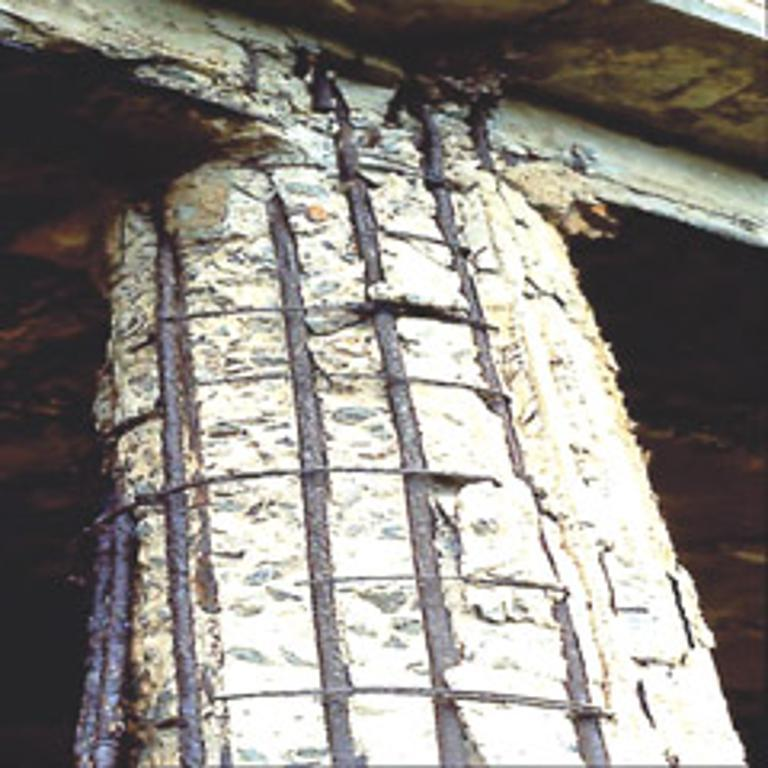exposed_rebar: (310, 66, 471, 768), (412, 102, 559, 579), (267, 192, 357, 768), (156, 215, 204, 768), (552, 591, 610, 768), (94, 513, 134, 768), (470, 104, 495, 172)
spalling: (78, 32, 742, 768)
